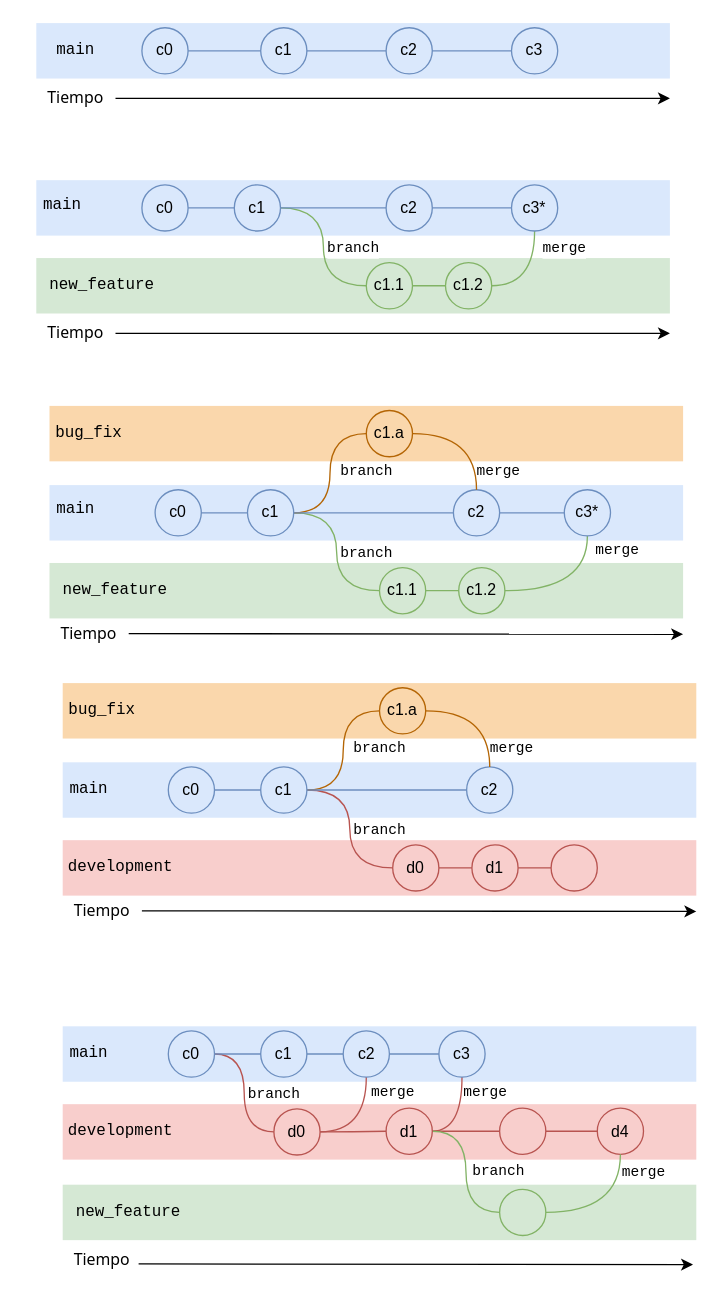
This 718x1302 diagram has some shape labels left out. The centre of each missing label's shape, as x and y in pixels:
"d2" belongs at point 573,867.
"d3" belongs at point 522,1130.
"n1" belongs at point 522,1212.
